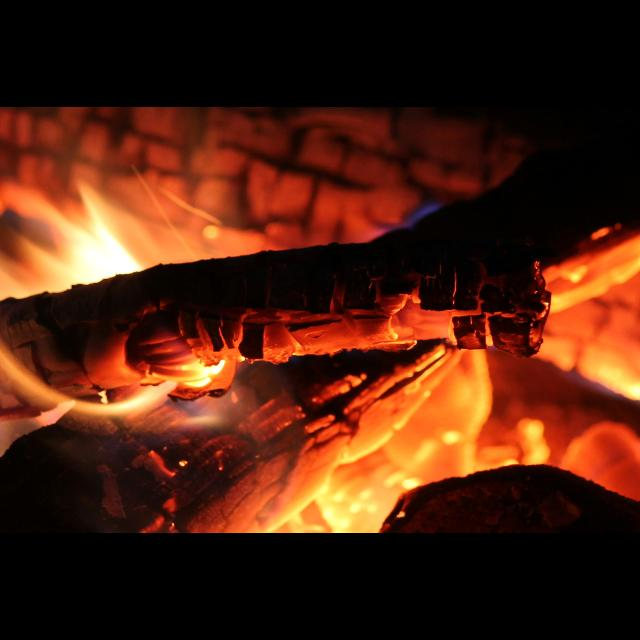fire: (0, 241, 550, 534), (68, 161, 310, 266)
